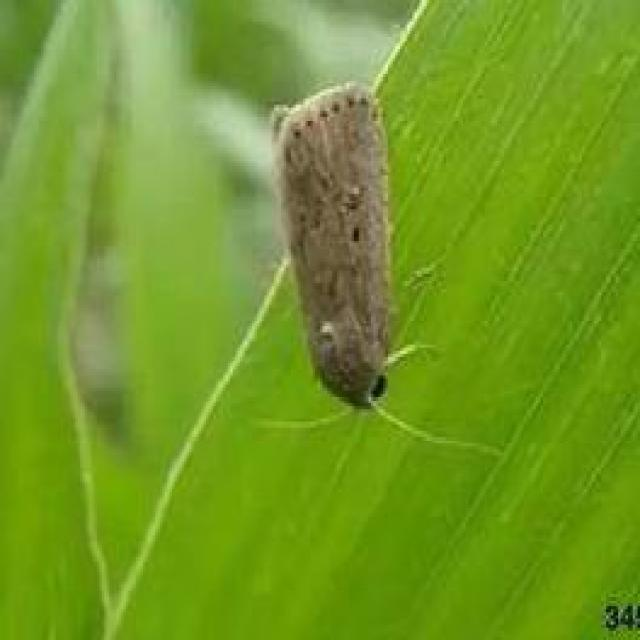BeetArmyWorm-Adult-: (242, 75, 426, 434)
